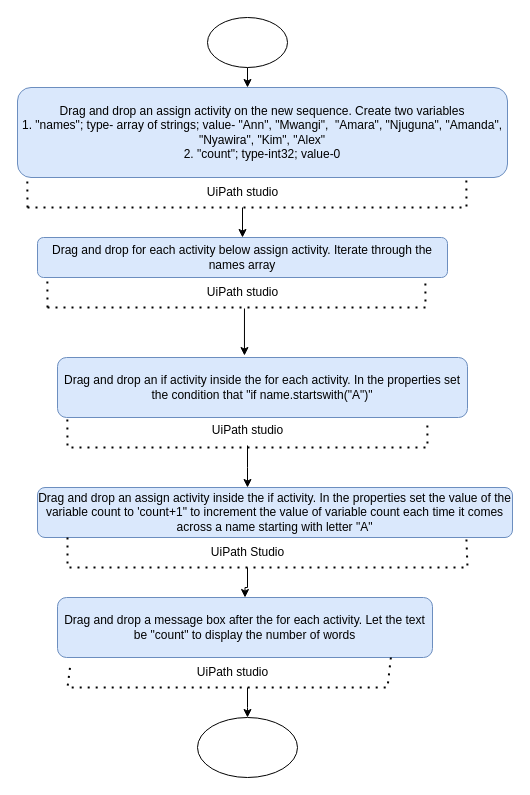
This 530x795 diagram has some shape labels left out. The box of each missing label's shape, as (x1, y1, x2, y2) in pixels:
END: (196, 716, 298, 778)
Start: (206, 16, 288, 68)
